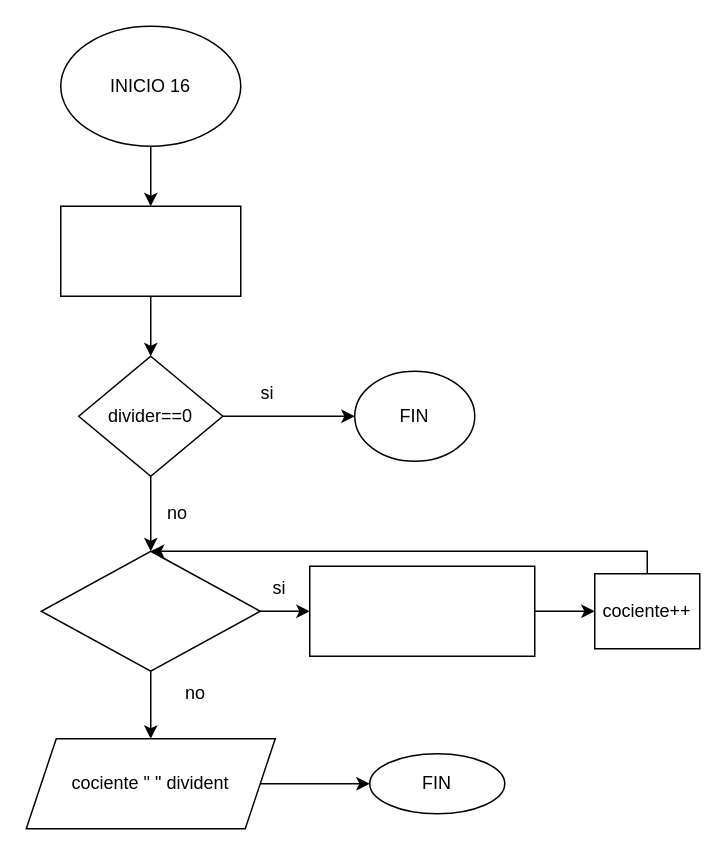
Some shapes in this 726 by 855 pixel diagram are drawn without their labels. Each missing label, with the centre of its shape:
divident=divident-divider;: point (421, 610)
divident>=divider: point (150, 610)
int divident, int divider,int cociente=0: point (150, 250)
